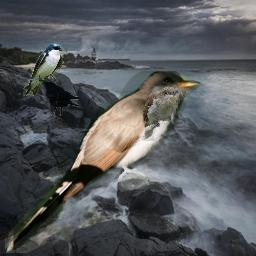Crow: (34, 76, 80, 118)
Cuckoo: (5, 71, 203, 253), (141, 86, 179, 141)
Swallow: (23, 43, 64, 96)
